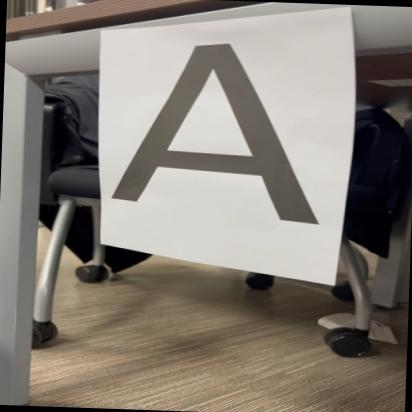seat: (104, 37, 340, 228)
